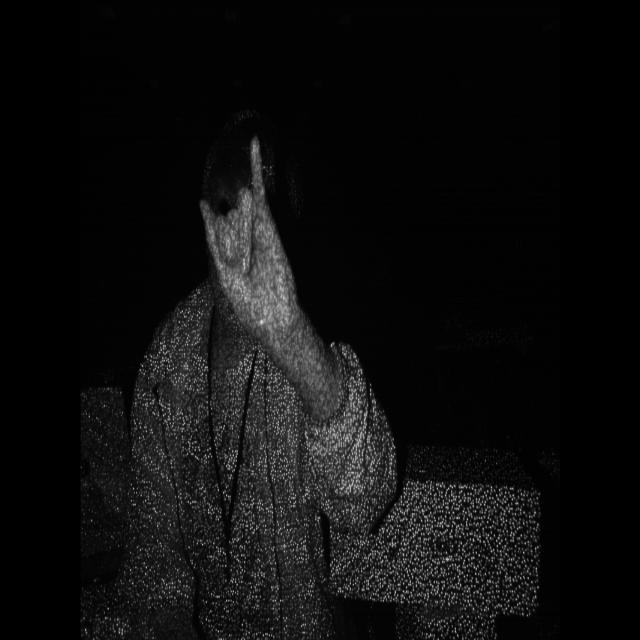I: (190, 92, 327, 386)
